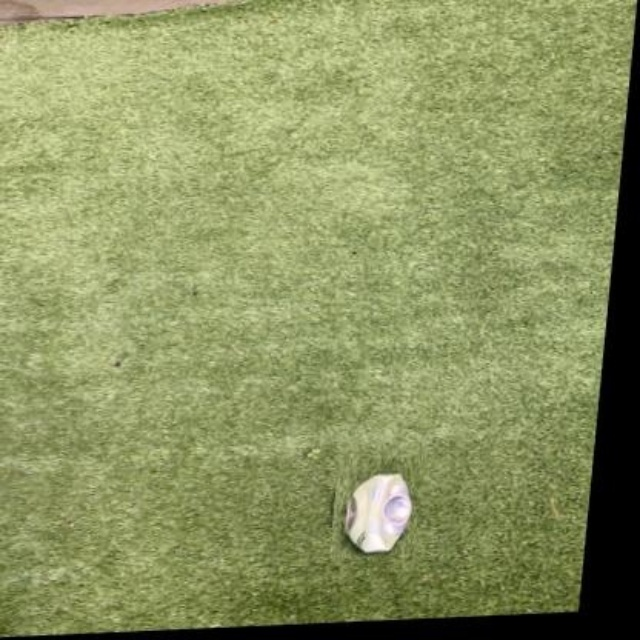trash: (345, 474, 411, 552)
